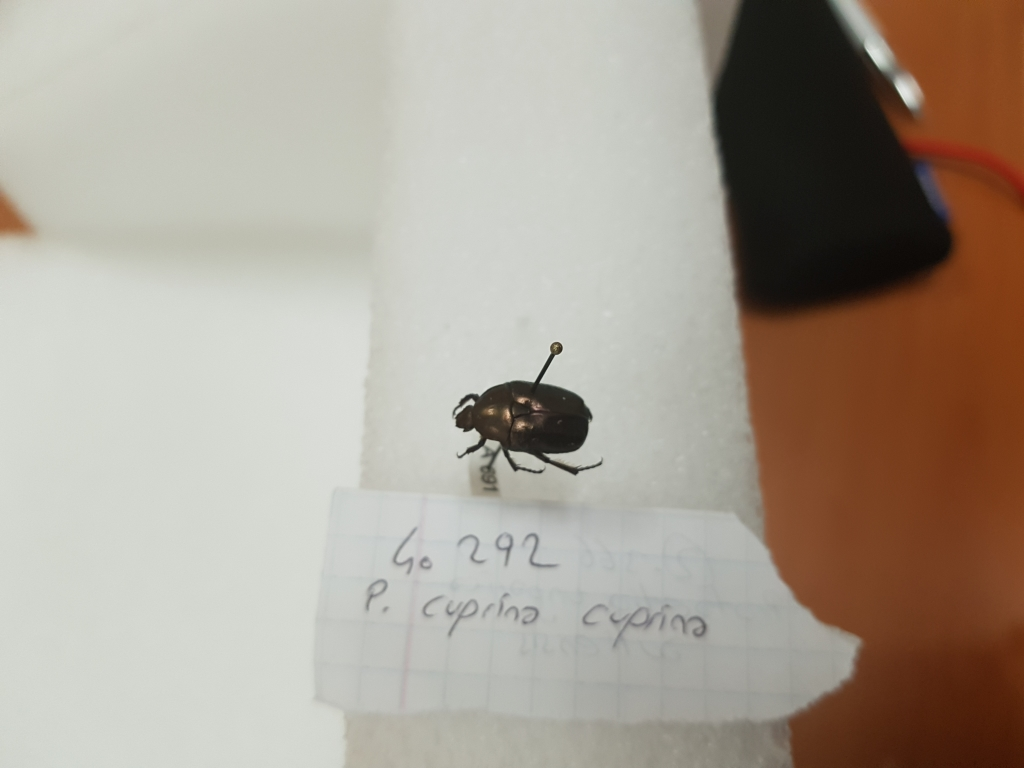Protaetia_cuprina_cuprina: (445, 371, 607, 492)
